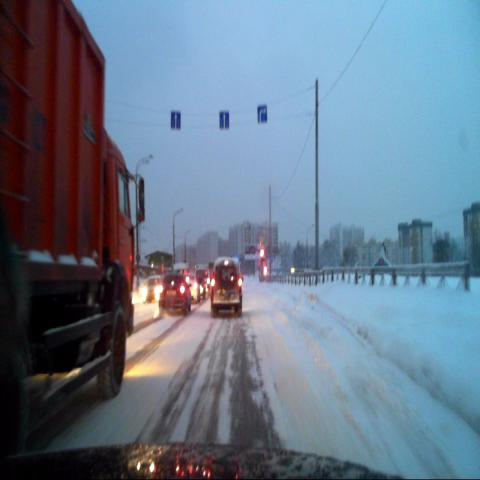5_15_2: (170, 109, 181, 129)
